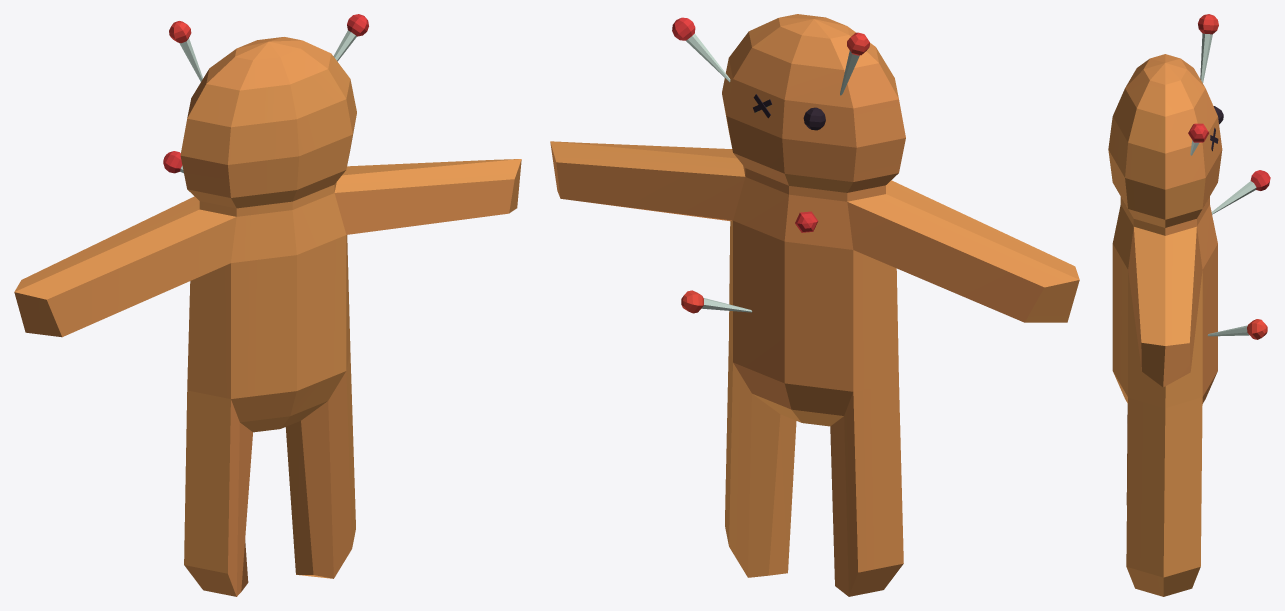
File: VoodooDoll.fbx
3 views of the same model, side by side, from view 1: azimuth 30°, elevation 25°; view 2: azimuth 150°, elevation 25°; view 3: azimuth 270°, elevation 25° (orthographic). The views are drawn at different scales.
Parts seen in each view (by area): view 1: Sphere; view 2: Sphere; view 3: Sphere.
Part boxes in pixels (x1,y1,x2,y2): Sphere: (14, 14, 521, 596); Sphere: (550, 14, 1079, 596); Sphere: (1108, 14, 1270, 596).
Size of the model in its own units: 575 by 603 by 170.
